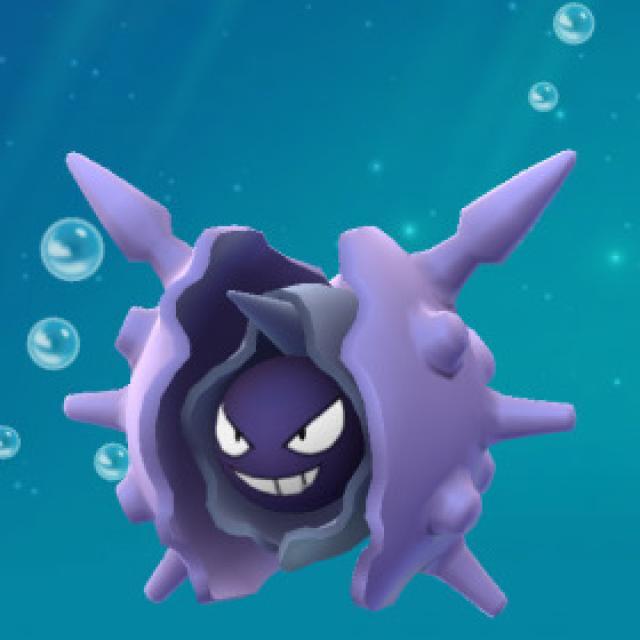Cloyster: (98, 225, 530, 600)
